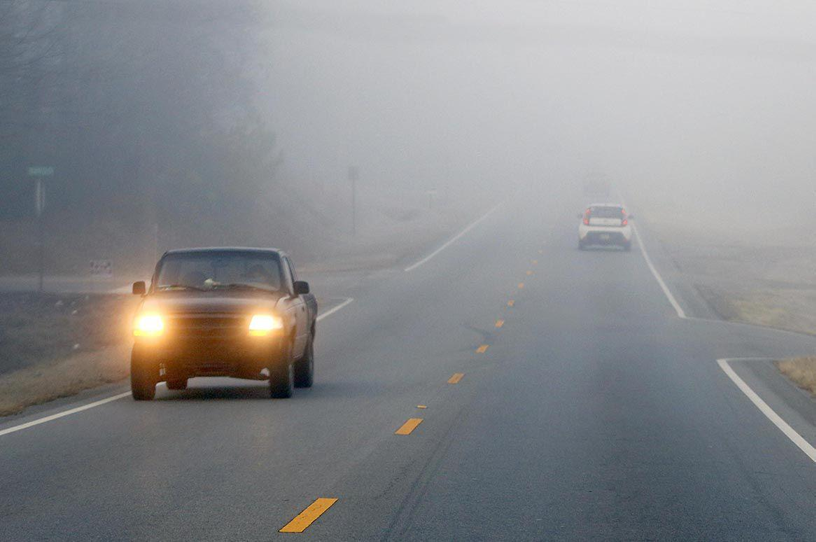car: (127, 244, 321, 402), (575, 201, 636, 251)
